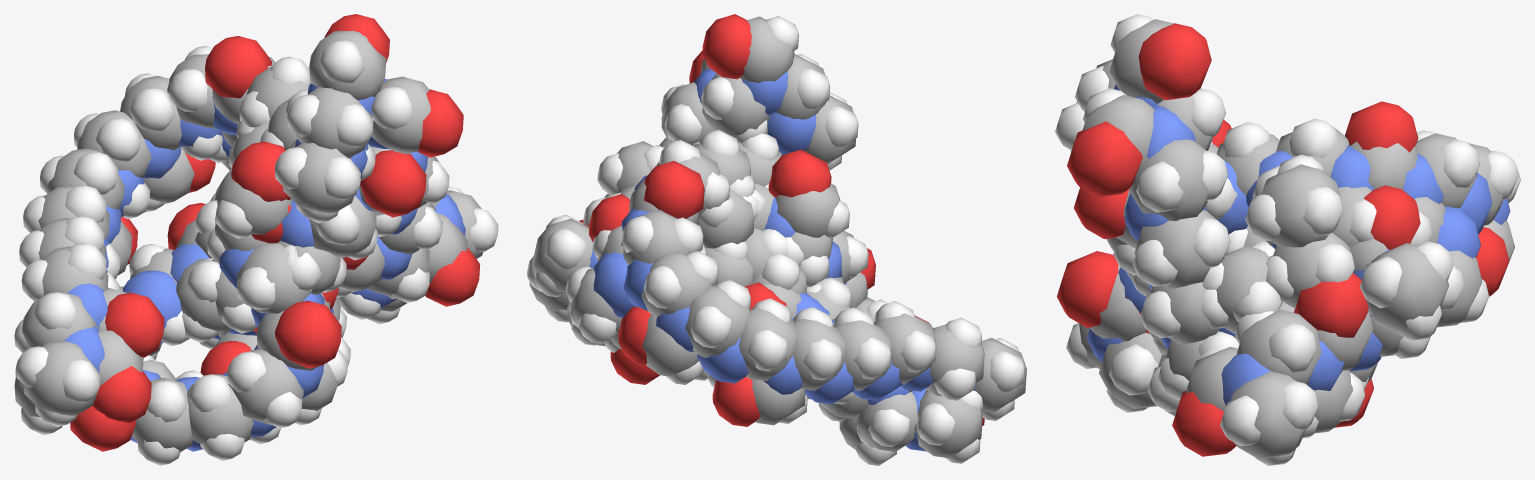
File: Duroplast_Sphere_black.glb
3 renders of one model, left to right at view 1: azimuth 30°, elevation 25°; view 2: azimuth 150°, elevation 25°; view 3: azimuth 270°, elevation 25°, orthographic. The views are drawn at different scales.
Parts seen in each view (by area): view 1: VSph019, VSph040, VSph138, VSph172, VSph122, VSph030, VSph027, VSph127, VSph068, VSph015, VSph013, VSph007 (+96 smaller); view 2: VSph138, VSph039, VSph068, VSph030, VSph065, VSph155, VSph076, VSph066, VSph073, VSph109, VSph031, VSph078 (+73 smaller); view 3: VSph039, VSph026, VSph139, VSph144, VSph143, VSph019, VSph104, VSph033, VSph035, VSph138, VSph113, VSph101 (+76 smaller).
Boxes of the visible parts, x1,y1,x2,y2 form: VSph019: [274, 300, 341, 368]; VSph040: [360, 150, 426, 217]; VSph138: [205, 36, 271, 98]; VSph172: [105, 292, 164, 357]; VSph122: [24, 341, 99, 415]; VSph030: [309, 30, 386, 100]; VSph027: [283, 142, 359, 213]; VSph127: [93, 366, 151, 422]; VSph068: [231, 141, 290, 201]; VSph015: [371, 76, 430, 154]; VSph013: [228, 349, 303, 424]; VSph007: [236, 243, 312, 313]; VSph138: [644, 161, 704, 218]; VSph039: [702, 14, 751, 79]; VSph068: [768, 149, 831, 197]; VSph030: [740, 16, 794, 83]; VSph065: [776, 183, 840, 237]; VSph155: [914, 389, 982, 458]; VSph076: [685, 284, 749, 357]; VSph066: [926, 324, 984, 396]; VSph073: [738, 308, 796, 380]; VSph109: [642, 314, 698, 376]; VSph031: [702, 73, 770, 137]; VSph078: [641, 252, 711, 316]; VSph039: [1138, 23, 1211, 100]; VSph026: [1067, 121, 1142, 197]; VSph139: [1365, 243, 1448, 331]; VSph144: [1231, 371, 1305, 459]; VSph143: [1261, 164, 1340, 247]; VSph019: [1057, 251, 1118, 327]; VSph104: [1294, 273, 1368, 337]; VSph033: [1128, 139, 1208, 221]; VSph035: [1134, 210, 1215, 289]; VSph138: [1345, 101, 1418, 152]; VSph113: [1172, 391, 1236, 456]; VSph101: [1363, 185, 1420, 249].
Bounding box in the file's own units: 0.9415 × 0.7288 × 0.6819.
